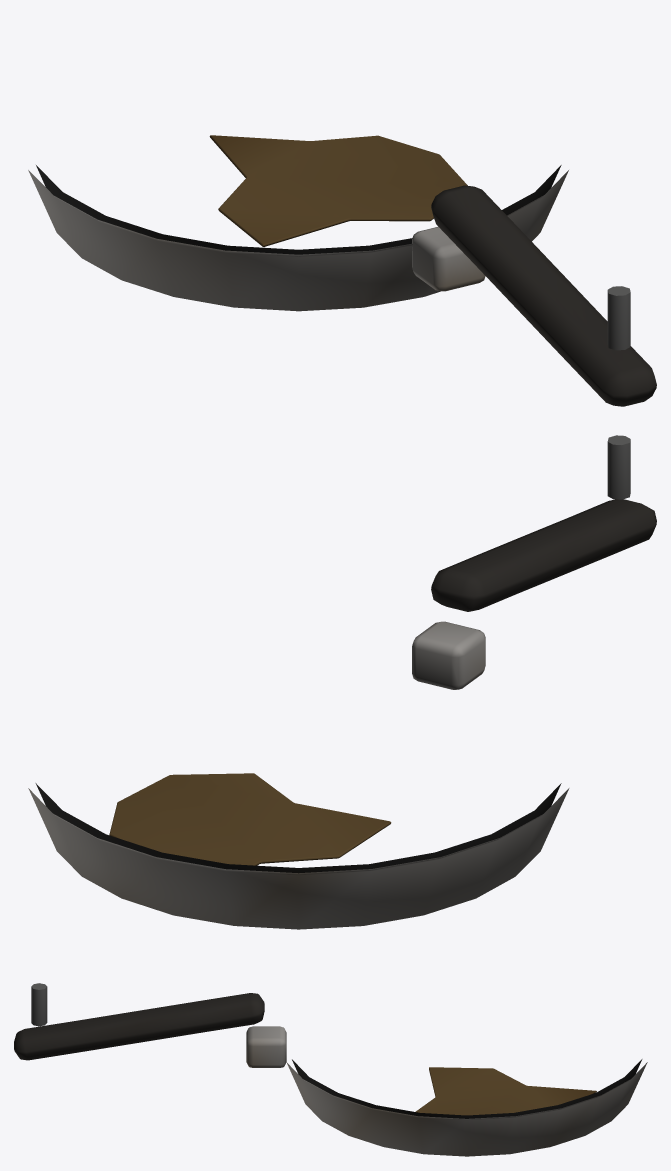
The model's file is kitchen_pan.glb.
3 renders of one model, top to bottom at view 1: azimuth 30°, elevation 25°; view 2: azimuth 150°, elevation 25°; view 3: azimuth 270°, elevation 25°, orthographic. The views are drawn at different scales.
Visible parts, largest first — view 1: kitchen_pan; view 2: kitchen_pan; view 3: kitchen_pan.
Boxes of the visible parts, x1,y1,x2,y2 form: kitchen_pan: (28,135,656,406); kitchen_pan: (28,435,656,929); kitchen_pan: (14,983,647,1156).
Size of the model in its own units: 0.2842 by 0.0901 by 0.481.
